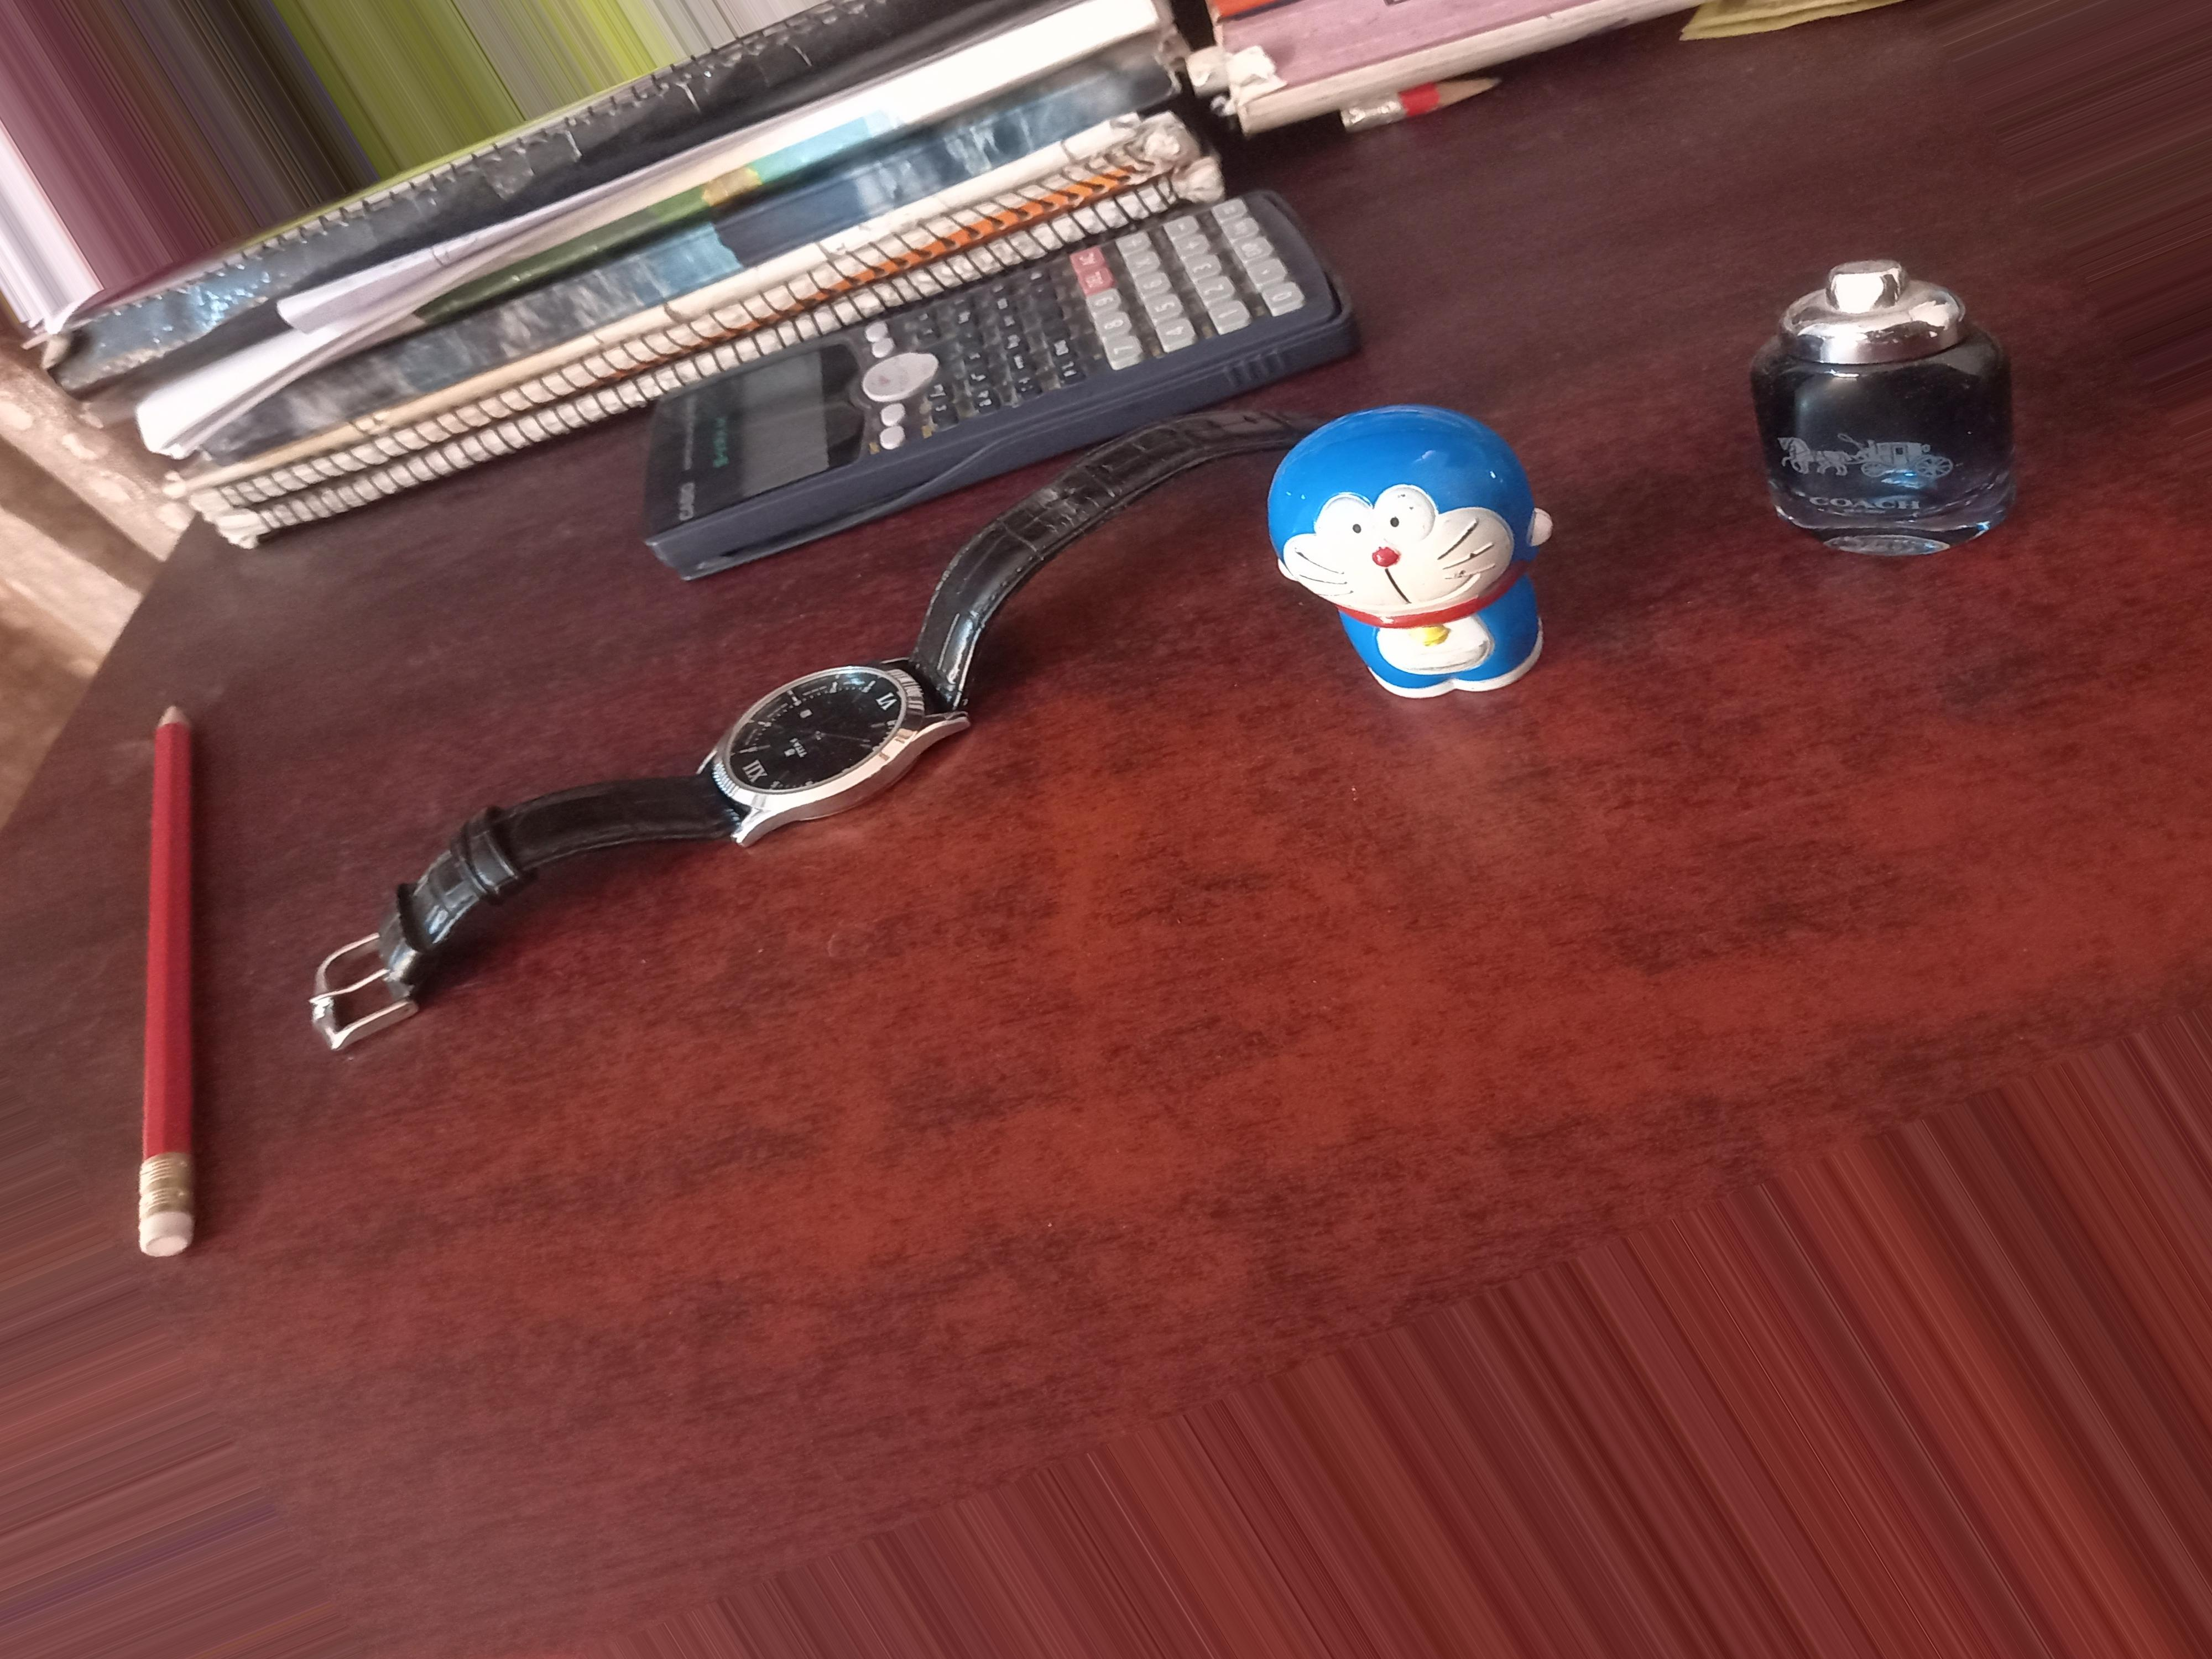calculator: (806, 213, 1306, 415)
doraemon: (1270, 462, 1595, 704)
pencil: (143, 708, 214, 1290)
perfume: (1756, 265, 2036, 566)
watch: (479, 619, 1101, 986)
